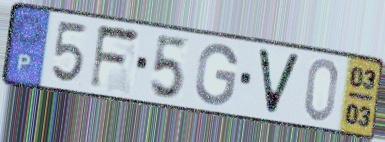0: (302, 57, 341, 124)
5: (147, 31, 192, 101), (50, 18, 89, 85)
F: (87, 23, 143, 93)
G: (192, 42, 240, 109)
V: (254, 46, 304, 119)
